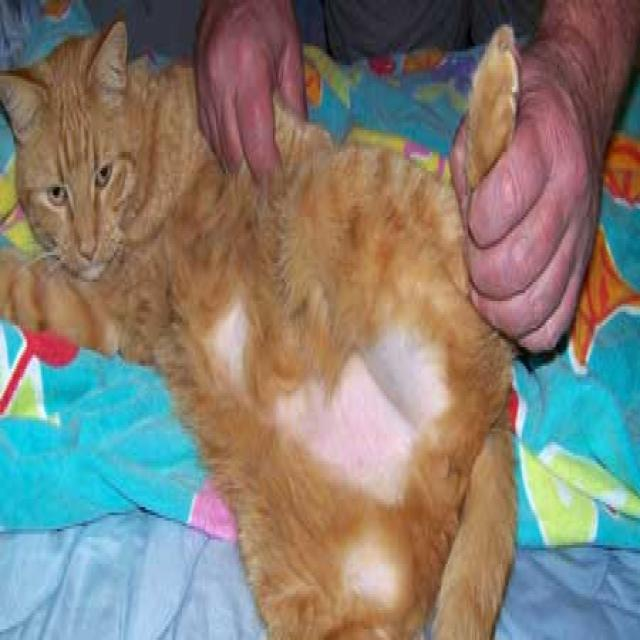cat-hairloss: (300, 341, 434, 471), (350, 547, 393, 593), (214, 308, 246, 369)
